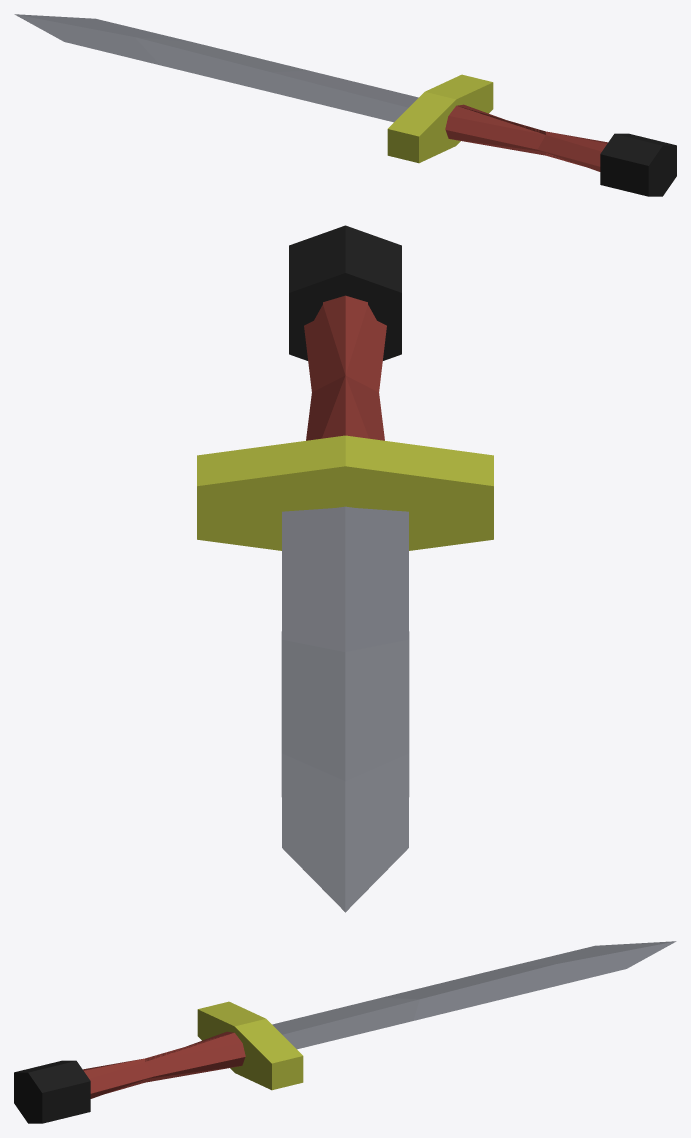
Rendered from Sword.fbx.
3 renders of one model, top to bottom at view 1: azimuth 30°, elevation 25°; view 2: azimuth 150°, elevation 25°; view 3: azimuth 270°, elevation 25°, orthographic. The views are drawn at different scales.
Parts seen in each view (by area): view 1: Cube.002; view 2: Cube.002; view 3: Cube.002.
Boxes of the visible parts, bbox=[...] form: Cube.002: bbox=[14, 14, 676, 196]; Cube.002: bbox=[197, 225, 493, 912]; Cube.002: bbox=[14, 941, 676, 1123].
Size of the model in its own units: 536 by 75.42 by 891.
